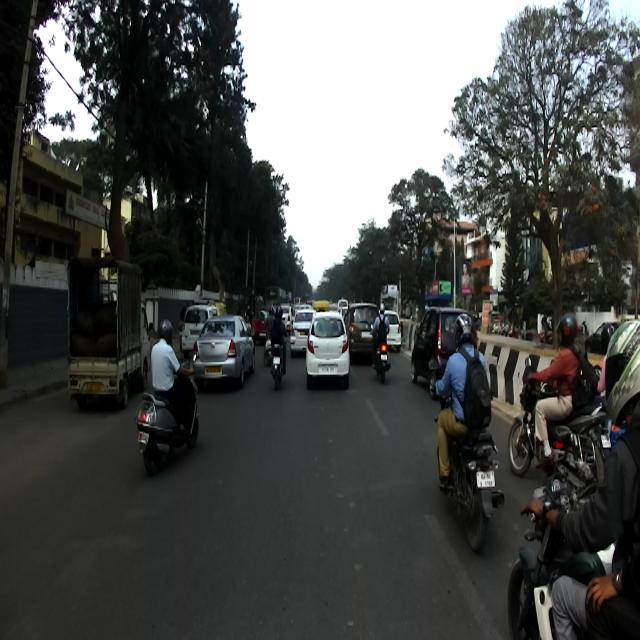car ahead at: (306, 310, 352, 396)
motorcycle ahead at: (450, 433, 504, 550), (137, 380, 201, 468)
